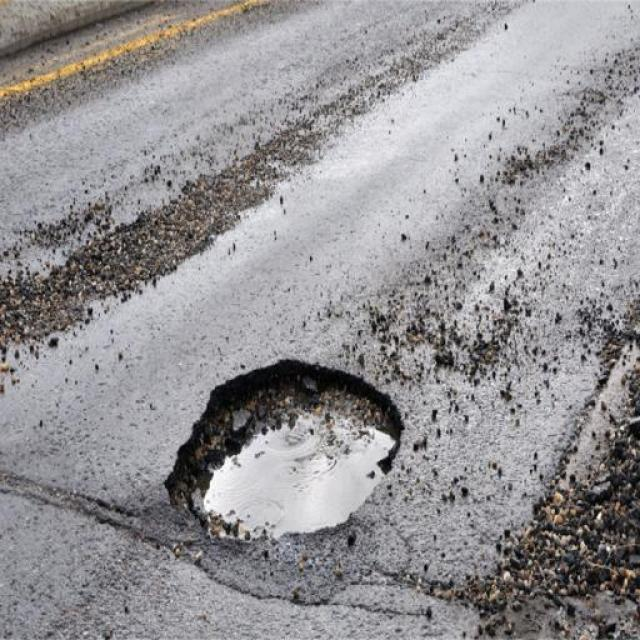puddle: (228, 414, 380, 524)
